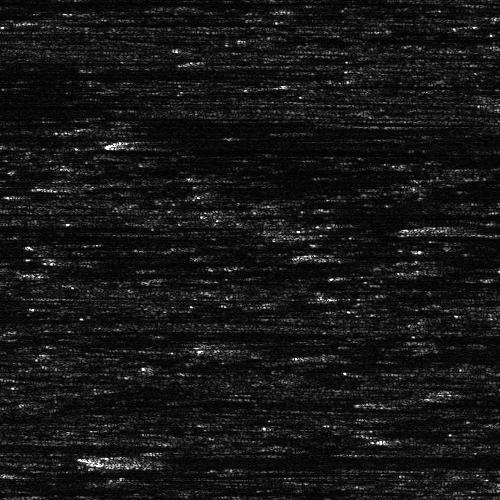object: (0, 16, 112, 29), (333, 394, 416, 411), (83, 454, 188, 467), (105, 135, 188, 144), (289, 251, 372, 258), (0, 270, 64, 277)
shadow: (136, 454, 423, 467), (50, 16, 226, 29), (0, 72, 286, 79), (27, 270, 302, 277), (375, 394, 475, 411), (147, 135, 330, 144), (0, 68, 207, 75), (331, 251, 427, 258), (0, 442, 78, 449)
